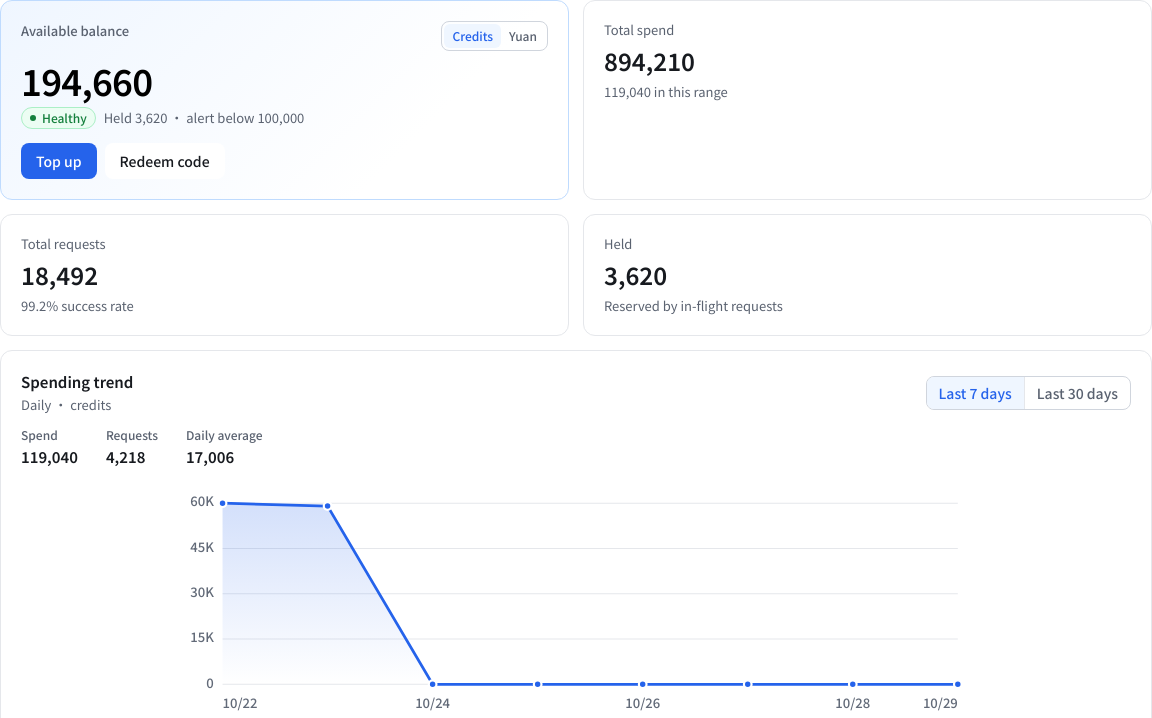
it: WalletOverview › converts the hero yuan view with the configured quota per unit
Step 1. Click the radio button labelled "Yuan" → (523,36), box [501,24,545,48]
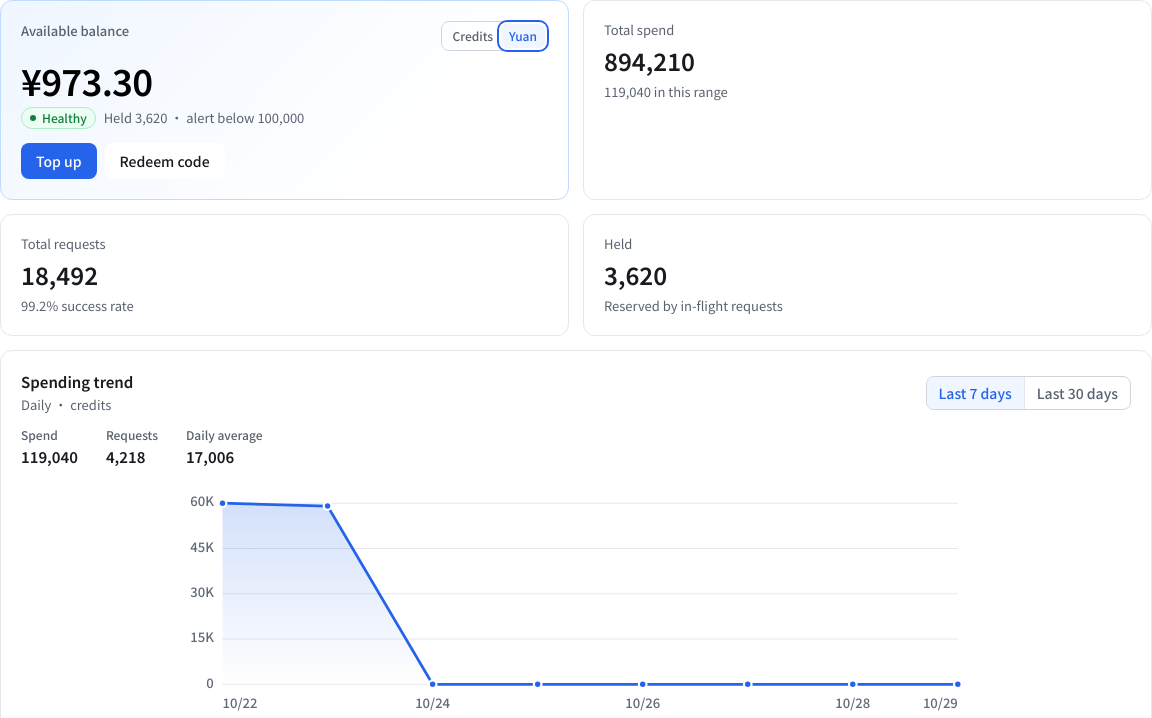
Expected: the text with test id "balance-value" reads "¥973.30", [21,54,152,106]
